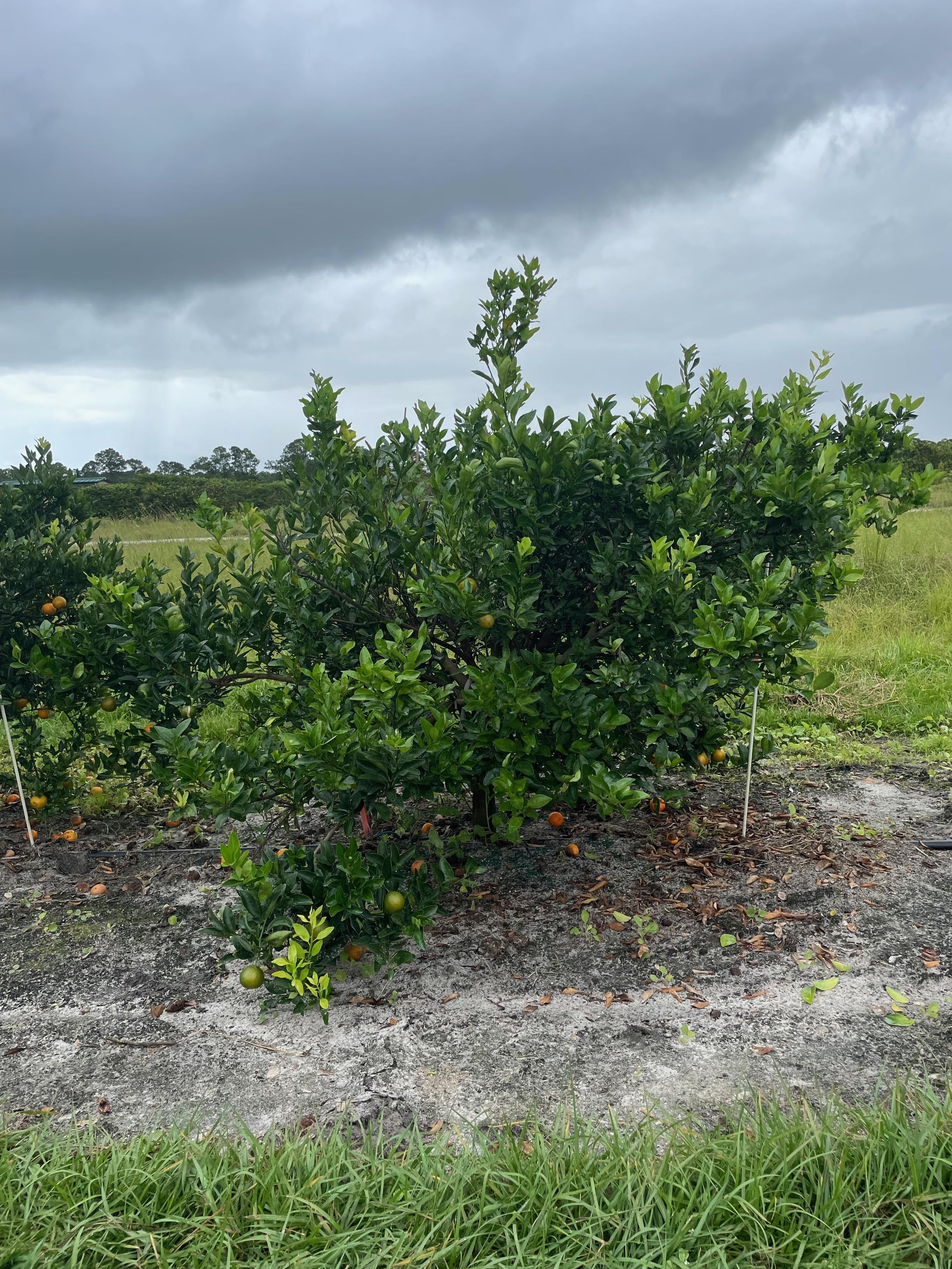fruit_on_ground: (236, 961, 267, 992), (380, 888, 408, 915), (341, 941, 368, 964), (455, 574, 480, 597), (477, 611, 497, 631), (691, 749, 711, 768), (28, 792, 48, 811), (99, 694, 119, 713), (710, 745, 729, 763), (176, 702, 195, 719), (142, 721, 160, 738), (35, 704, 52, 721), (40, 600, 57, 617), (12, 694, 30, 710), (51, 594, 68, 610), (136, 682, 153, 698)
fruit_on_tree: (546, 808, 566, 829), (648, 794, 668, 814), (408, 858, 429, 876), (564, 841, 582, 859), (89, 881, 109, 897), (95, 1098, 113, 1115), (418, 820, 437, 836), (273, 845, 291, 860), (163, 813, 182, 827), (665, 830, 681, 846), (62, 827, 79, 842), (4, 791, 21, 805), (25, 828, 39, 842), (68, 813, 83, 826), (89, 783, 103, 795), (51, 830, 65, 841), (4, 846, 16, 858)
